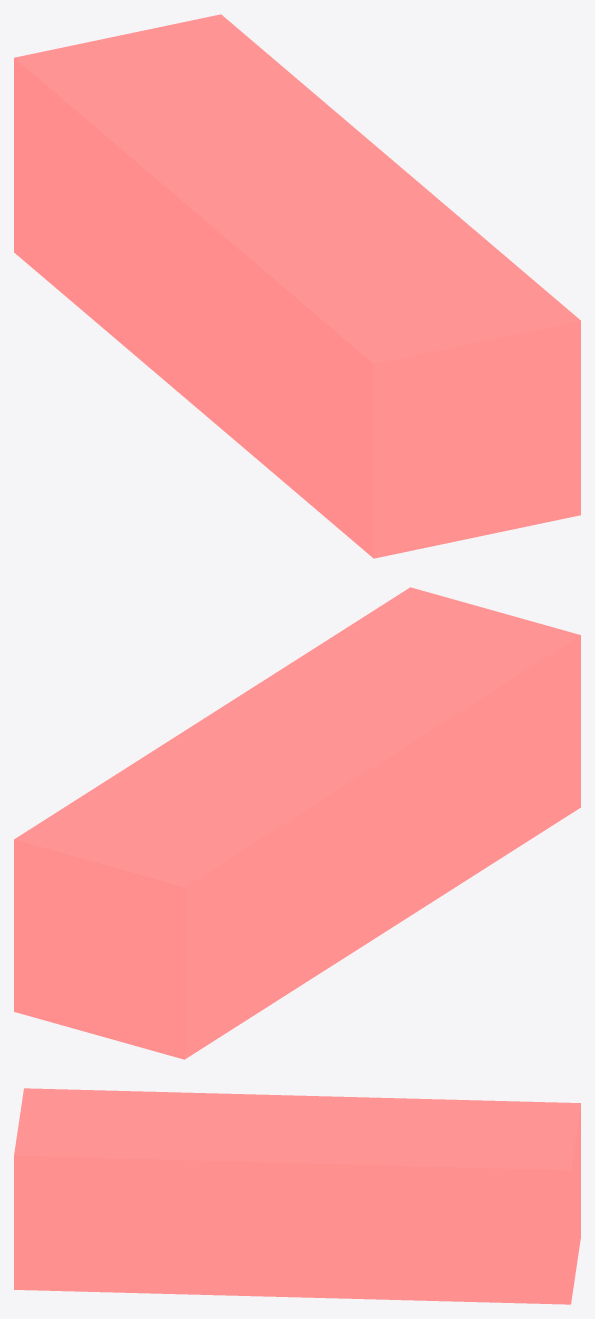
The model's file is fanlino_D.fbx.
3 views of the same model, one above another, from view 1: azimuth 30°, elevation 25°; view 2: azimuth 150°, elevation 25°; view 3: azimuth 270°, elevation 25° (orthographic). The views are drawn at different scales.
Parts seen in each view (by area): view 1: Cube_7; view 2: Cube_7; view 3: Cube_7.
Boxes of the visible parts, x1,y1,x2,y2 form: Cube_7: (14, 14, 580, 558); Cube_7: (14, 587, 580, 1059); Cube_7: (14, 1088, 580, 1304).
Bounding box in the file's own units: 8.11 × 6.19 × 23.68.
